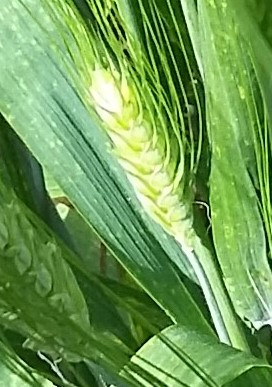Healthy Wheat: (83, 59, 213, 242)
